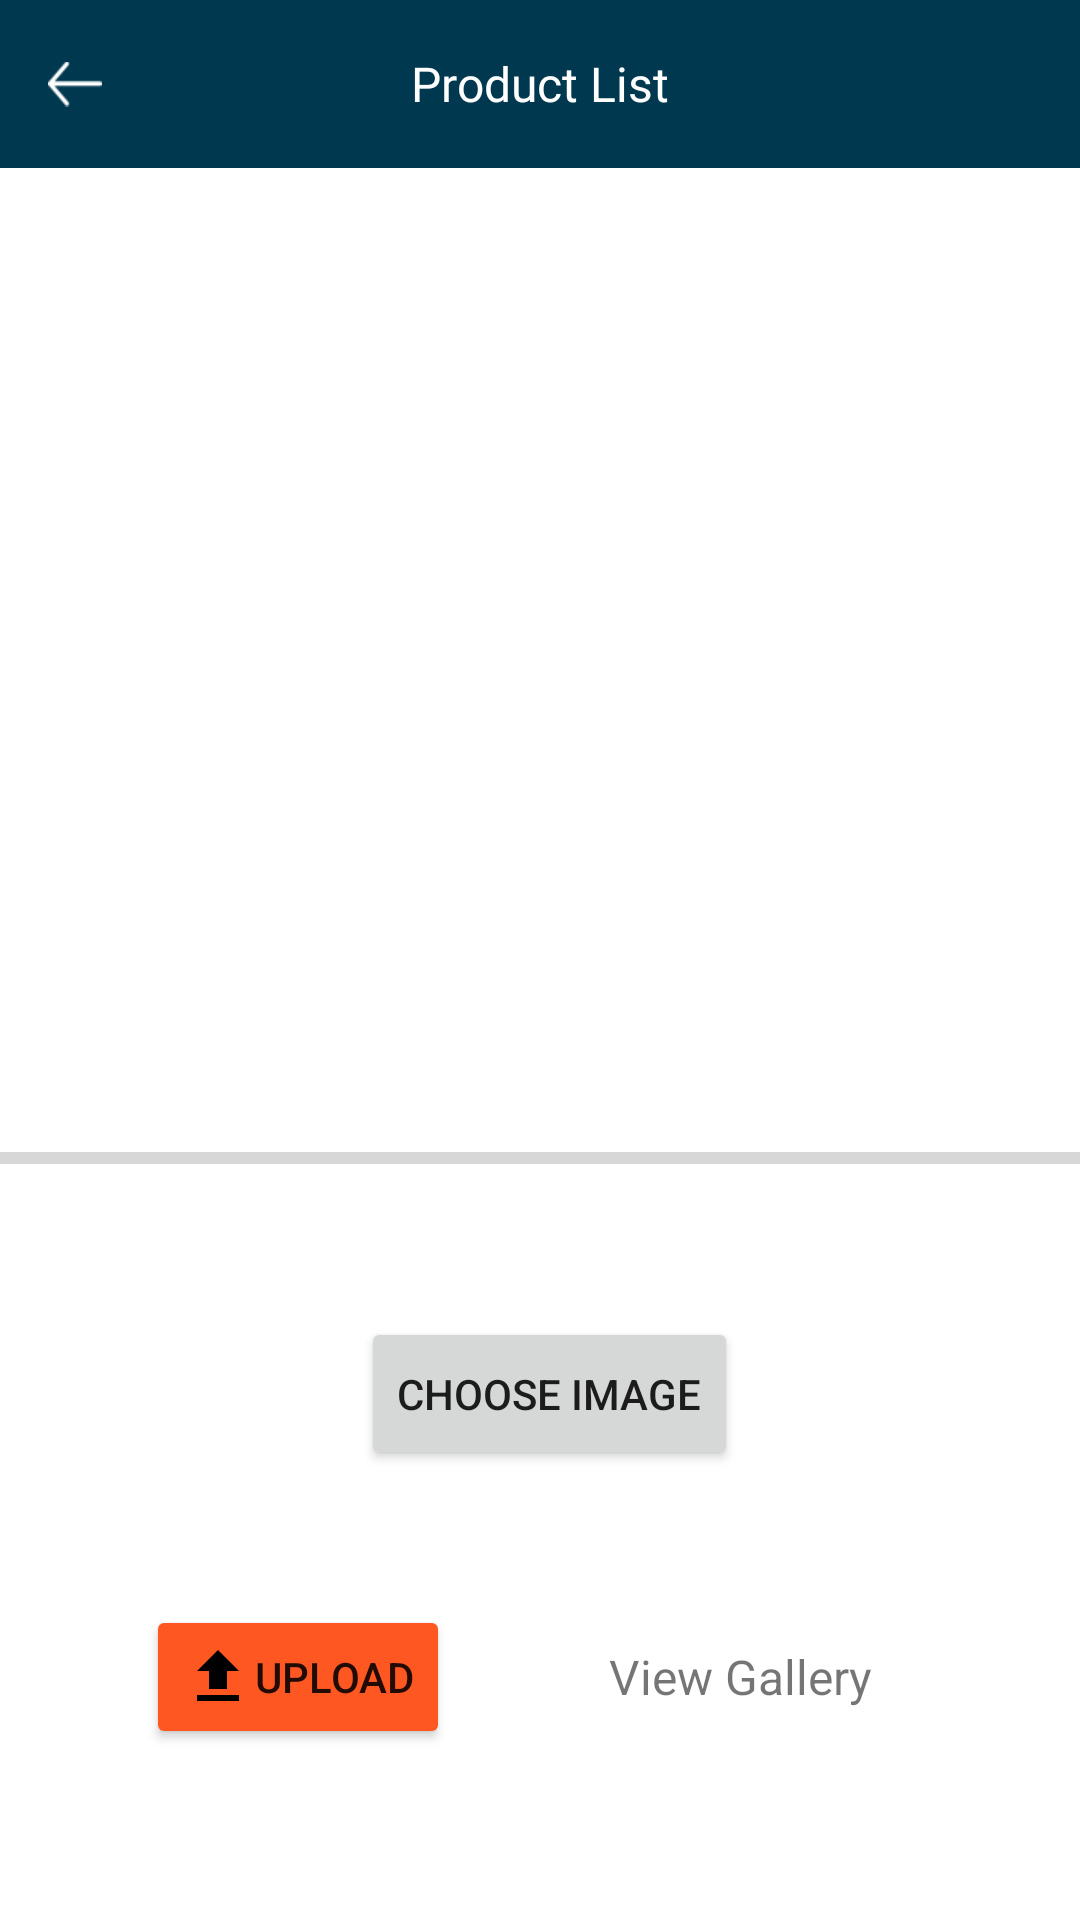

Screen size 1080px×1920px. Icon name, then its center in pixels as (x=x, y=y):
back: (x=75, y=84)
